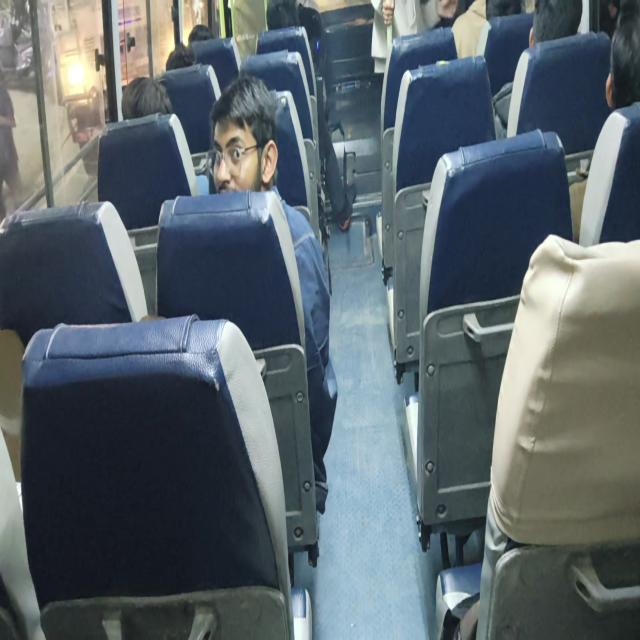person: (214, 104, 272, 196), (602, 0, 640, 105), (518, 0, 582, 62), (255, 0, 316, 46), (119, 76, 164, 134), (471, 0, 531, 31), (166, 42, 206, 86), (183, 19, 218, 42)
